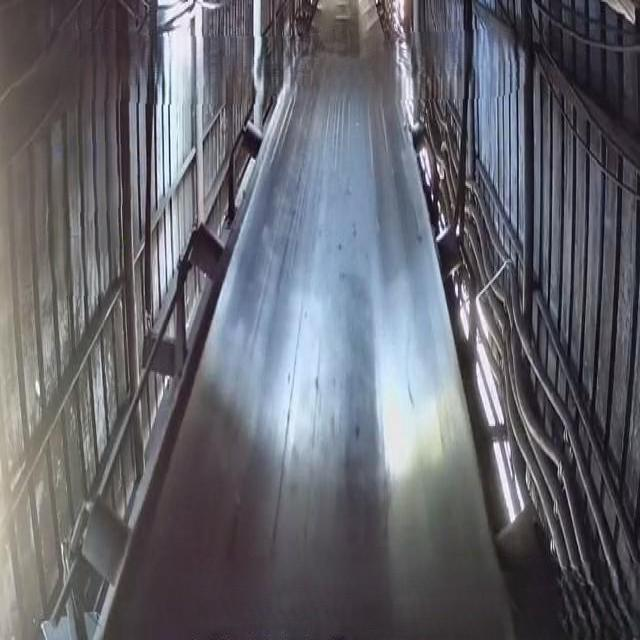Tear: (401, 371, 419, 418)
